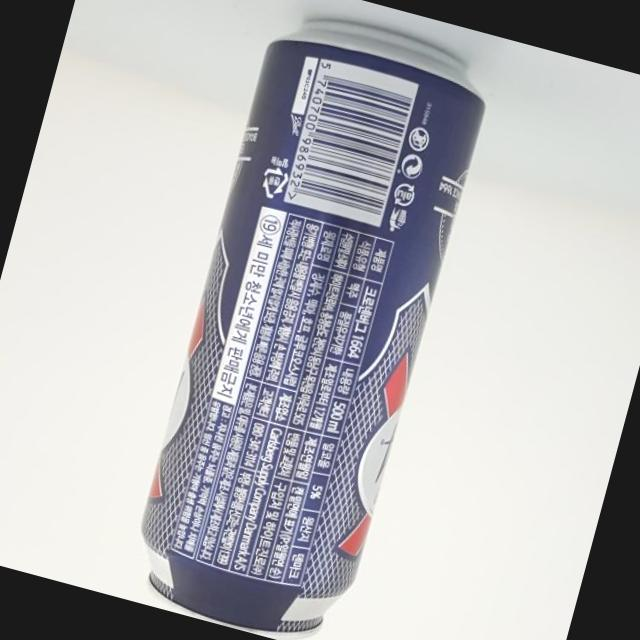can: (113, 0, 507, 640)
